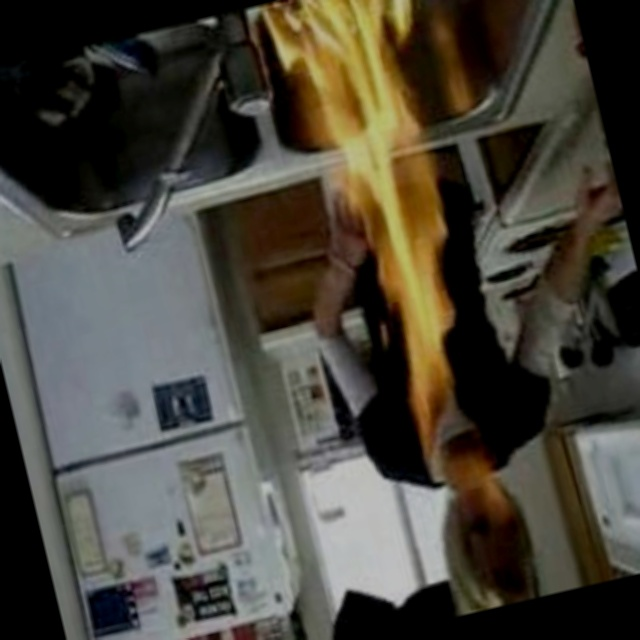fire: (245, 0, 550, 550)
